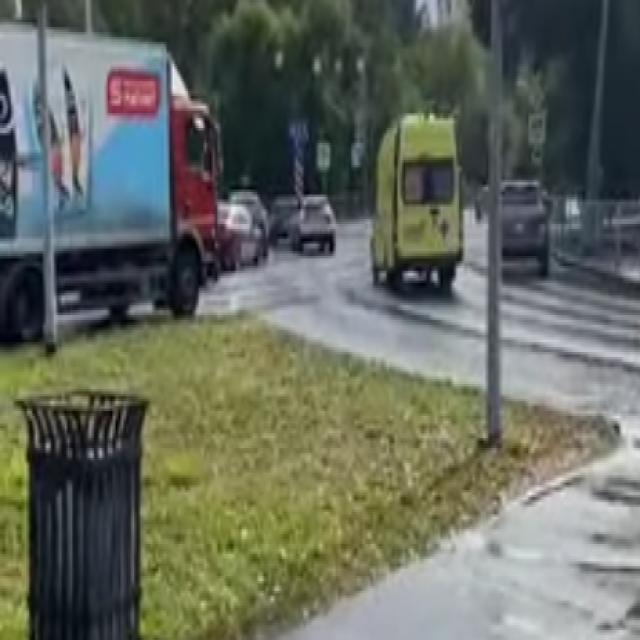intensive care unit: (372, 112, 466, 304)
non emergency car: (1, 29, 217, 337), (500, 178, 551, 282), (293, 192, 337, 258)
